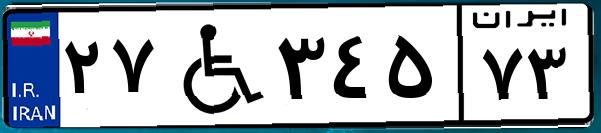2: (57, 26, 110, 100)
3: (270, 28, 330, 110), (525, 38, 570, 115)
4: (330, 28, 385, 110)
5: (385, 28, 445, 110)
7: (475, 38, 525, 113), (110, 28, 158, 98)
ژ (معلولین و جانبازان): (158, 12, 270, 120)
